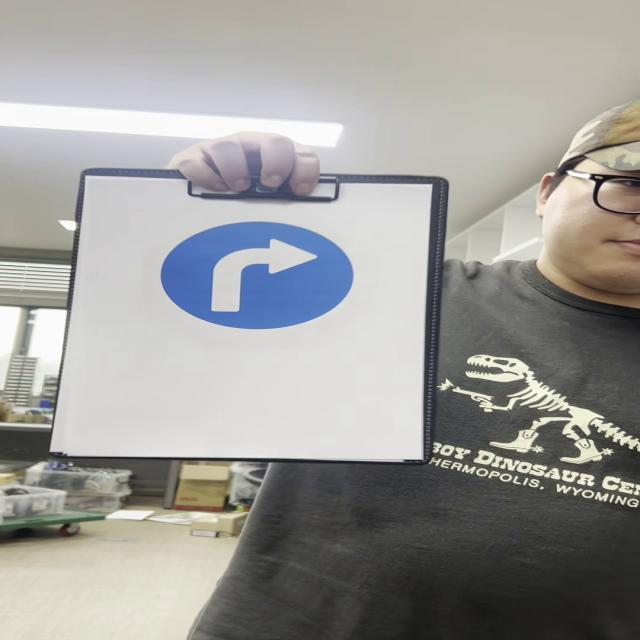right: (163, 224, 355, 333)
